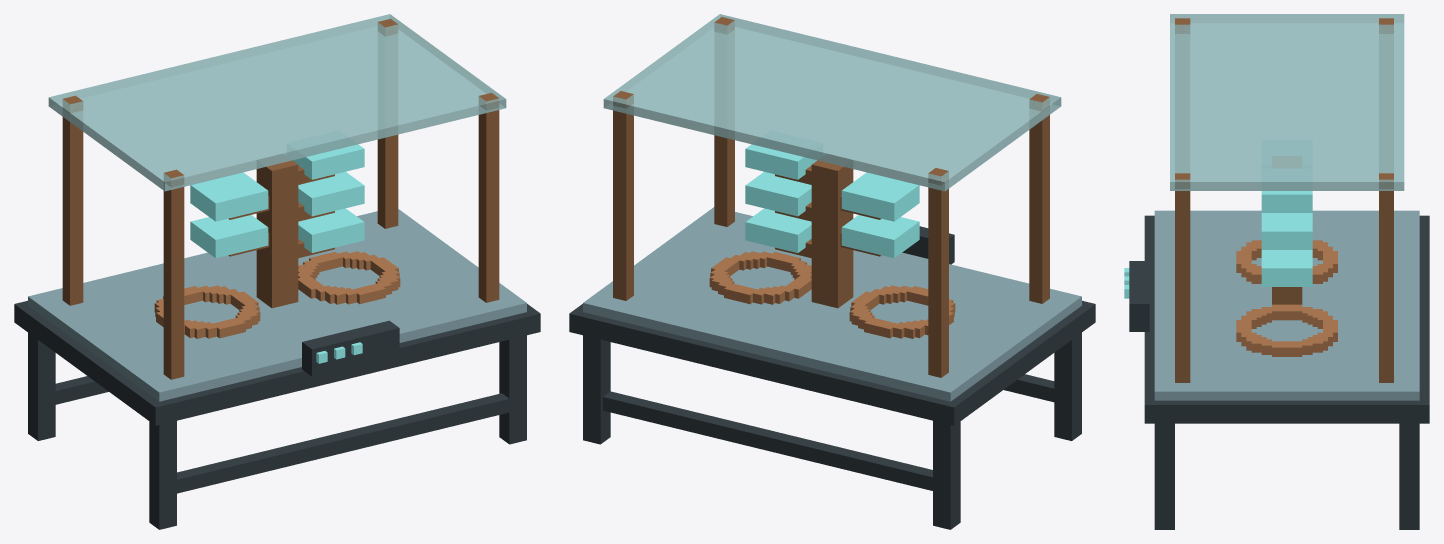
Rendered from arcane_studies_station_t8.glb.
3 renders of one model, left to right at view 1: azimuth 30°, elevation 25°; view 2: azimuth 150°, elevation 25°; view 3: azimuth 270°, elevation 25°, orthographic.
Parts seen in each view (by area): view 1: arcane_studies_station_t8/growth_chamber, arcane_studies_station_t8/work_surface, arcane_studies_station_t8/frame; view 2: arcane_studies_station_t8/growth_chamber, arcane_studies_station_t8/work_surface, arcane_studies_station_t8/frame; view 3: arcane_studies_station_t8/growth_chamber, arcane_studies_station_t8/work_surface, arcane_studies_station_t8/frame.
Part boxes in pixels (<box>): arcane_studies_station_t8/growth_chamber: <box>48,14,506,379</box>; arcane_studies_station_t8/work_surface: <box>28,209,526,401</box>; arcane_studies_station_t8/frame: <box>14,300,540,529</box>; arcane_studies_station_t8/growth_chamber: <box>603,14,1061,377</box>; arcane_studies_station_t8/work_surface: <box>583,207,1081,401</box>; arcane_studies_station_t8/frame: <box>569,300,1095,529</box>; arcane_studies_station_t8/growth_chamber: <box>1170,14,1404,382</box>; arcane_studies_station_t8/work_surface: <box>1124,210,1419,400</box>; arcane_studies_station_t8/frame: <box>1144,215,1429,529</box>.
Bounding box in the file's own units: 2.75 × 2.31 × 1.88.
